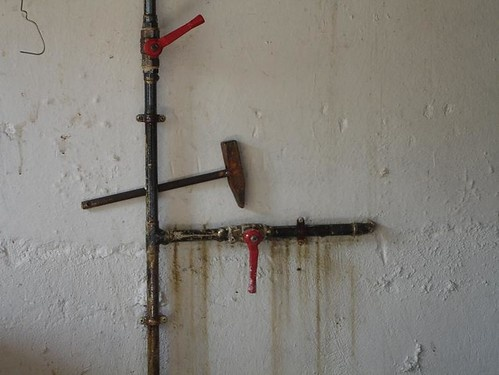hammer: (79, 138, 245, 209)
